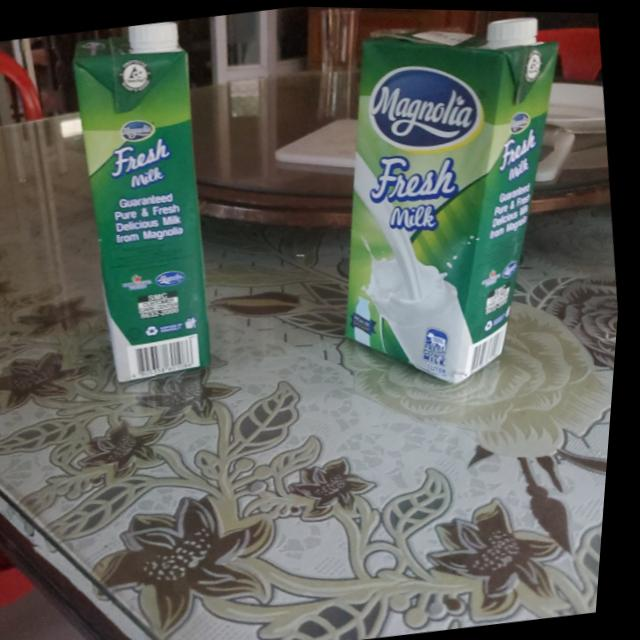milk: (300, 10, 602, 401), (50, 16, 238, 384)
